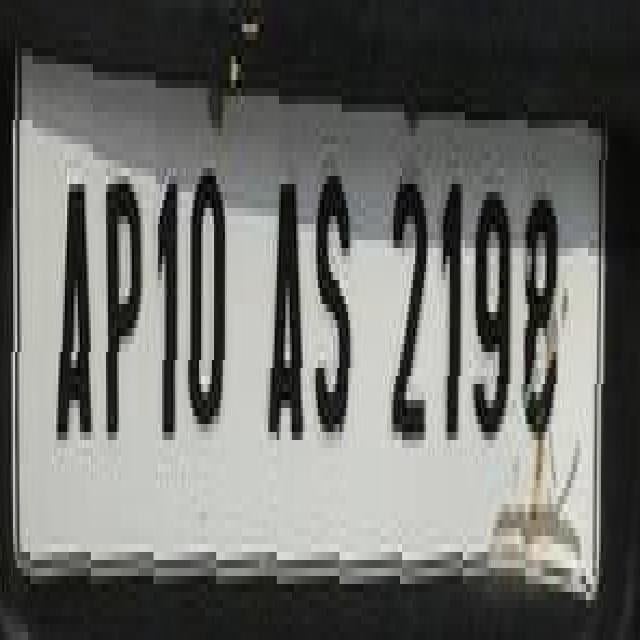license_plate: (0, 8, 608, 608)
